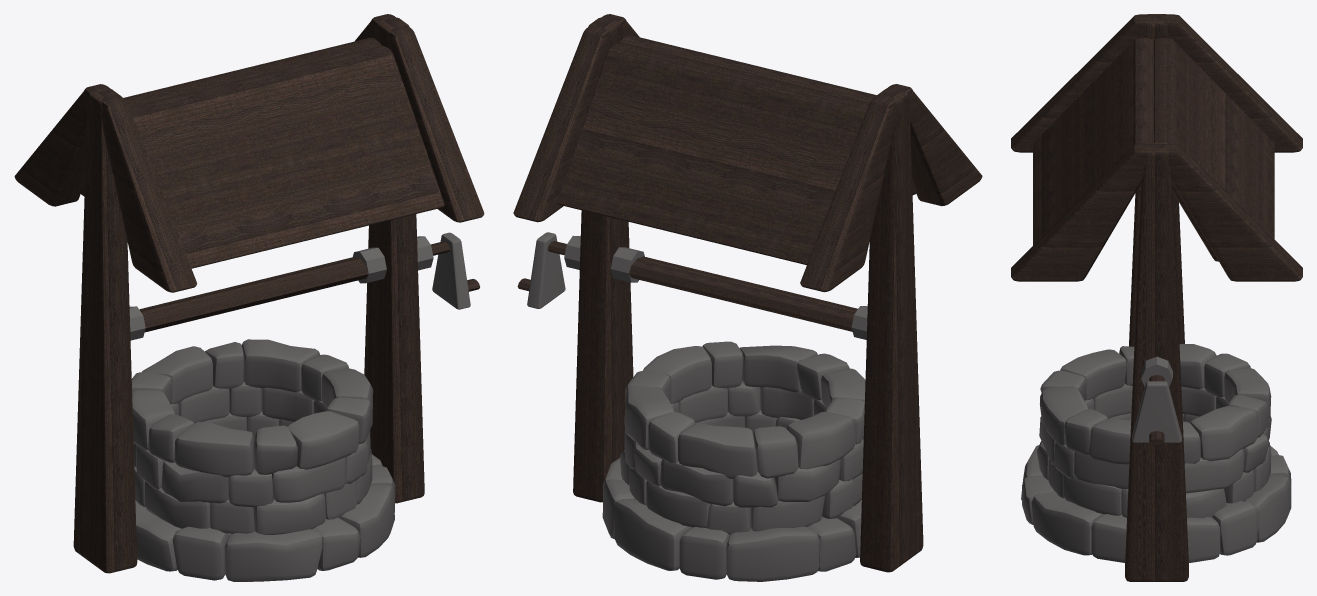
The model's file is well textured slightly.fbx.
3 renders of one model, left to right at view 1: azimuth 30°, elevation 25°; view 2: azimuth 150°, elevation 25°; view 3: azimuth 270°, elevation 25°, orthographic. The views are drawn at different scales.
Parts seen in each view (by area): view 1: polySurface1, polySurface4, polySurface3, polySurface2, polySurface59, polySurface58, polySurface44, polySurface27, polySurface20, polySurface17, polySurface45, polySurface43 (+25 smaller); view 2: polySurface1, polySurface4, polySurface3, polySurface2, polySurface59, polySurface58, polySurface47, polySurface26, polySurface50, polySurface23, polySurface20, polySurface19 (+25 smaller); view 3: polySurface1, polySurface3, polySurface59, polySurface2, polySurface43, polySurface17, polySurface4, polySurface54, polySurface27, polySurface50, polySurface49, polySurface29 (+23 smaller).
Boxes of the visible parts, bbox=[...] form: polySurface1: bbox=[80, 37, 444, 268]; polySurface4: bbox=[73, 89, 137, 573]; polySurface3: bbox=[364, 17, 424, 503]; polySurface2: bbox=[14, 84, 197, 292]; polySurface59: bbox=[354, 14, 484, 222]; polySurface58: bbox=[131, 257, 385, 332]; polySurface44: bbox=[224, 529, 322, 581]; polySurface27: bbox=[174, 421, 254, 477]; polySurface20: bbox=[287, 411, 359, 469]; polySurface17: bbox=[242, 339, 319, 392]; polySurface45: bbox=[172, 526, 229, 580]; polySurface43: bbox=[338, 484, 394, 557]; polySurface1: bbox=[556, 35, 916, 265]; polySurface4: bbox=[860, 89, 923, 572]; polySurface3: bbox=[573, 17, 633, 502]; polySurface2: bbox=[800, 84, 982, 292]; polySurface59: bbox=[513, 14, 639, 222]; polySurface58: bbox=[612, 256, 866, 331]; polySurface47: bbox=[726, 526, 819, 581]; polySurface26: bbox=[678, 423, 757, 478]; polySurface50: bbox=[614, 499, 691, 570]; polySurface23: bbox=[786, 411, 856, 469]; polySurface20: bbox=[739, 345, 817, 392]; polySurface19: bbox=[643, 346, 711, 403]; polySurface1: bbox=[1033, 38, 1274, 261]; polySurface3: bbox=[1125, 142, 1188, 581]; polySurface59: bbox=[1011, 143, 1302, 281]; polySurface2: bbox=[1011, 14, 1302, 152]; polySurface43: bbox=[1031, 491, 1102, 555]; polySurface17: bbox=[1190, 405, 1257, 461]; polySurface4: bbox=[1129, 14, 1184, 346]; polySurface54: bbox=[1132, 381, 1181, 442]; polySurface27: bbox=[1060, 349, 1126, 400]; polySurface50: bbox=[1244, 475, 1291, 542]; polySurface49: bbox=[1212, 501, 1258, 555]; polySurface29: bbox=[1184, 449, 1244, 493].
Size of the model in its own units: 11.5 by 13.25 by 8.14.
